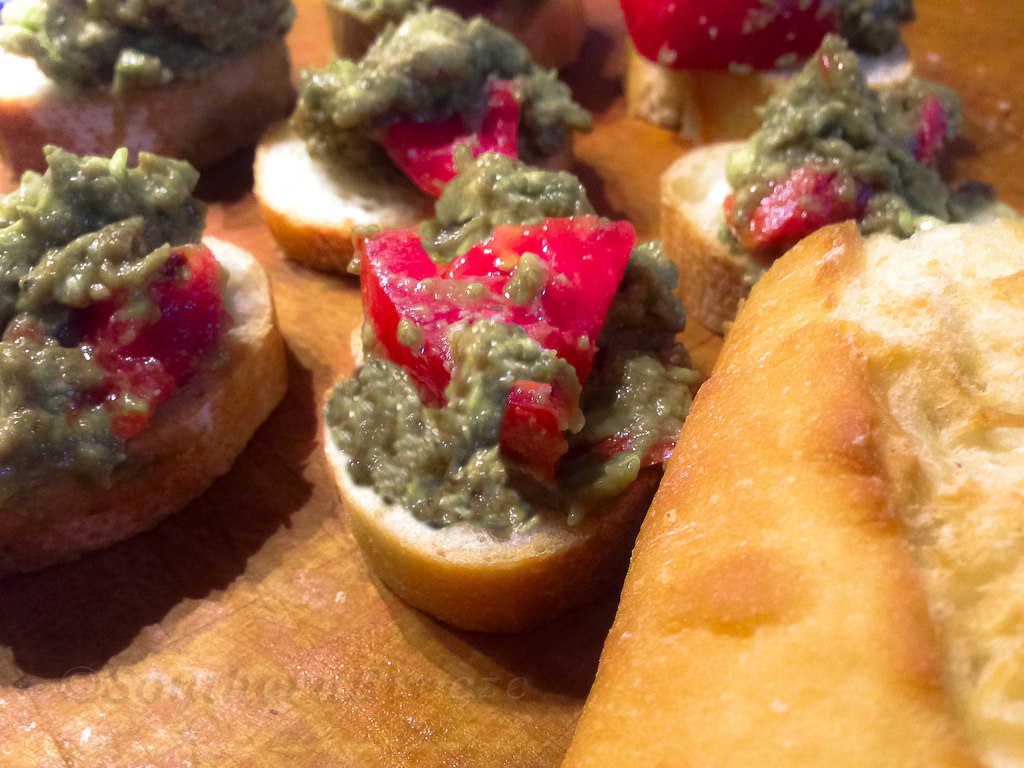slice of bread: (315, 469, 669, 623), (246, 132, 427, 254)
